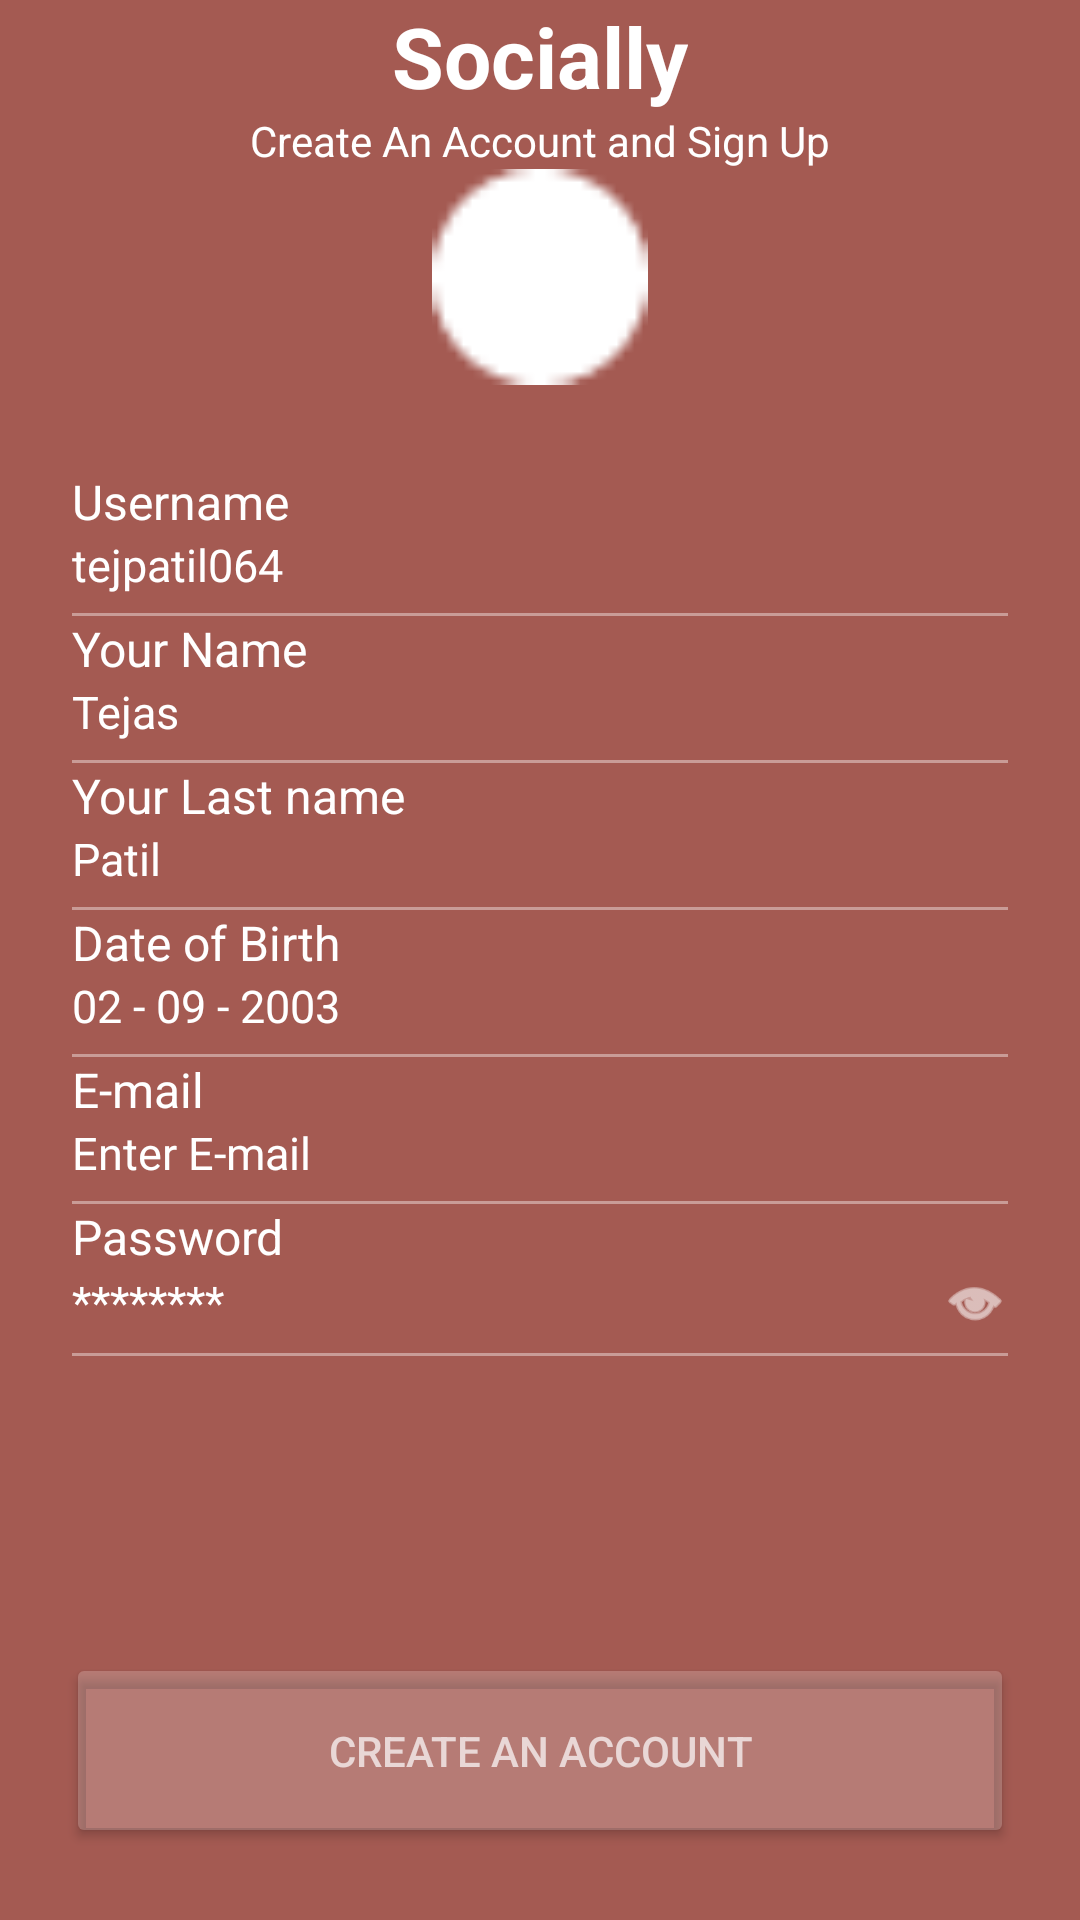

Icon click points for this 1080*1920 phone screenshot, format (x=x, y=y):
view: (x=975, y=1304)
